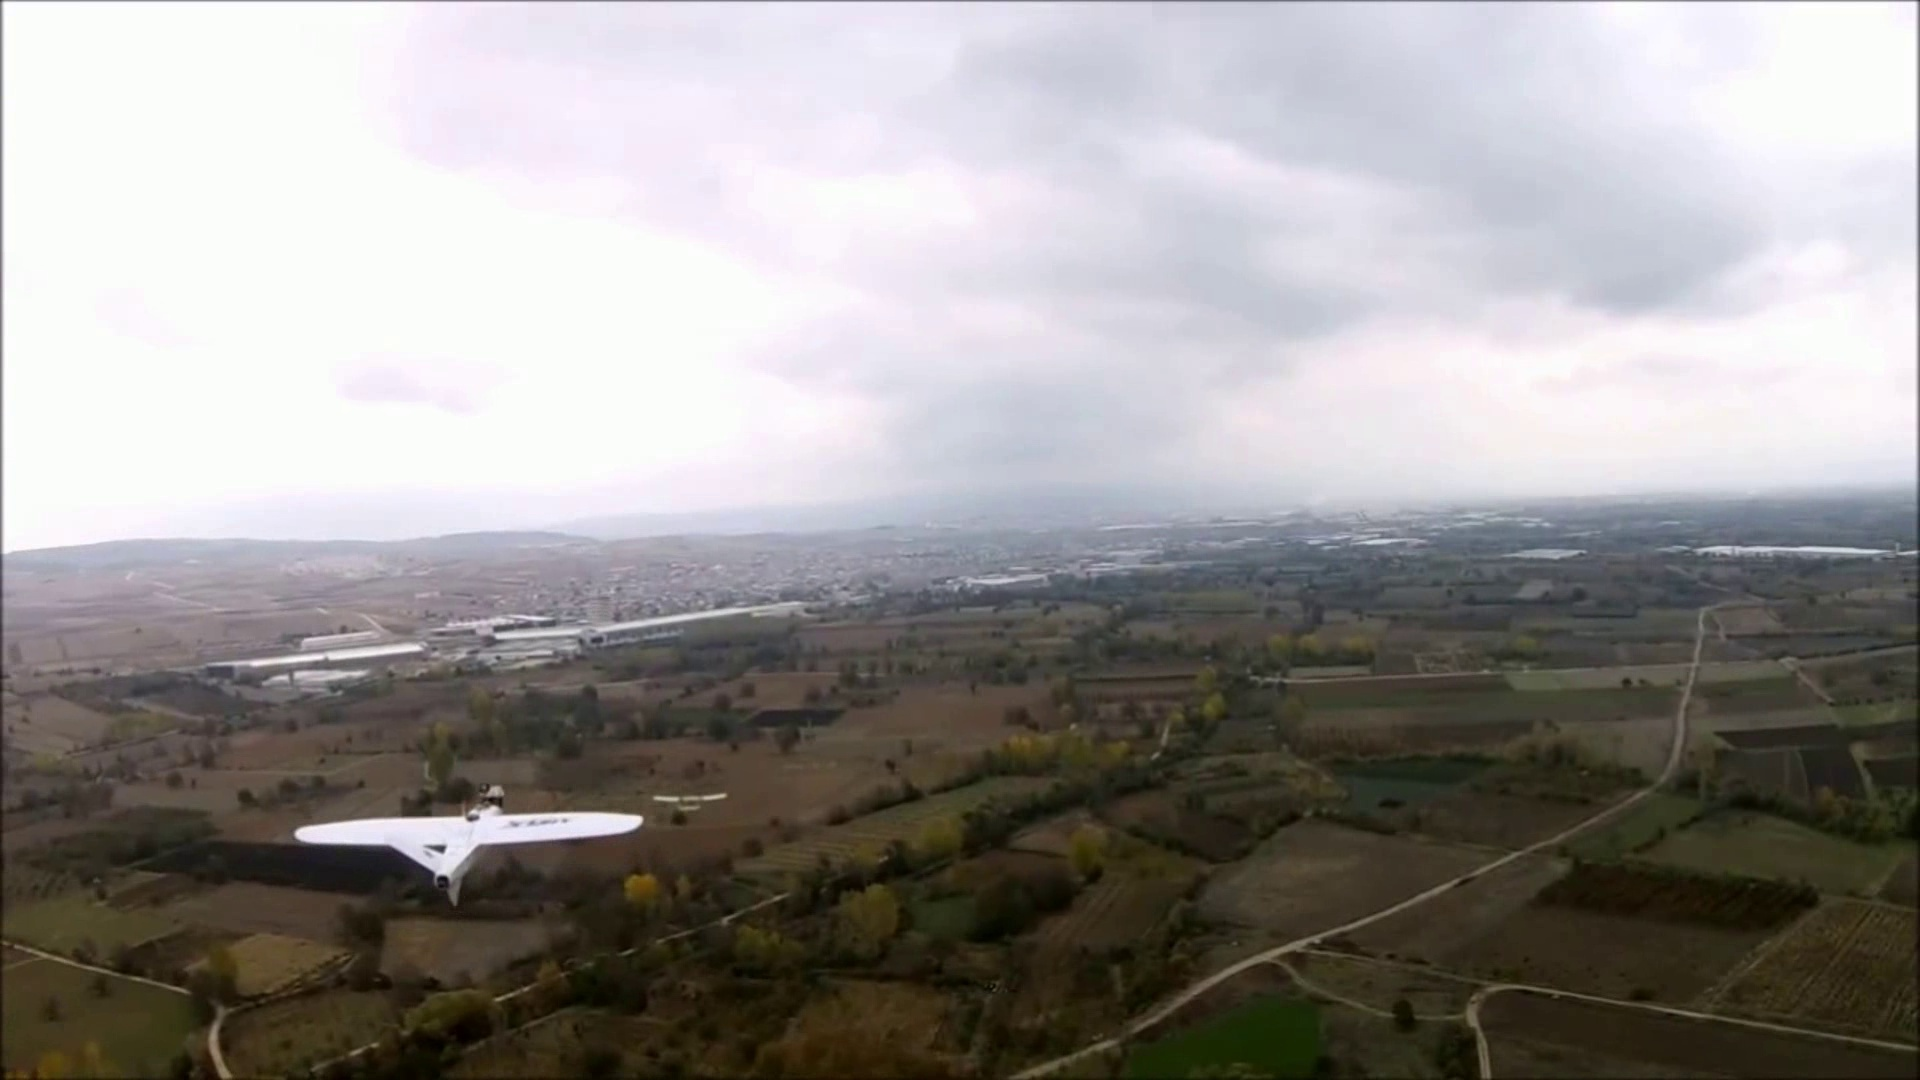airplane: (294, 809, 643, 901)
